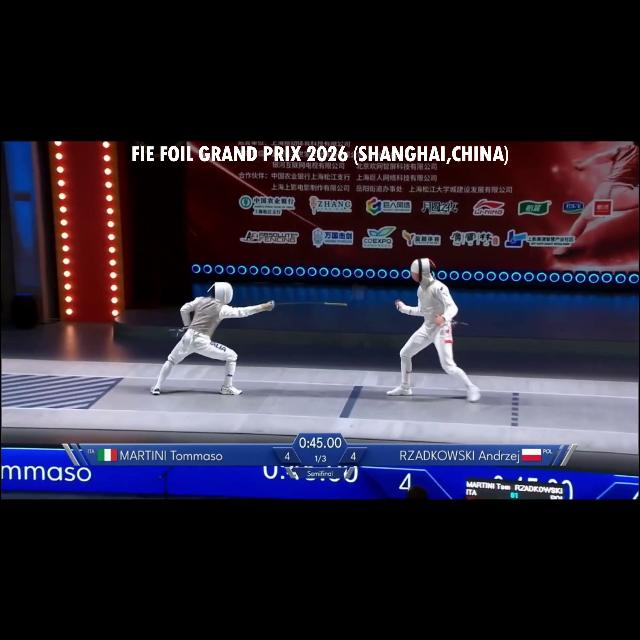blade: (262, 300, 354, 314)
